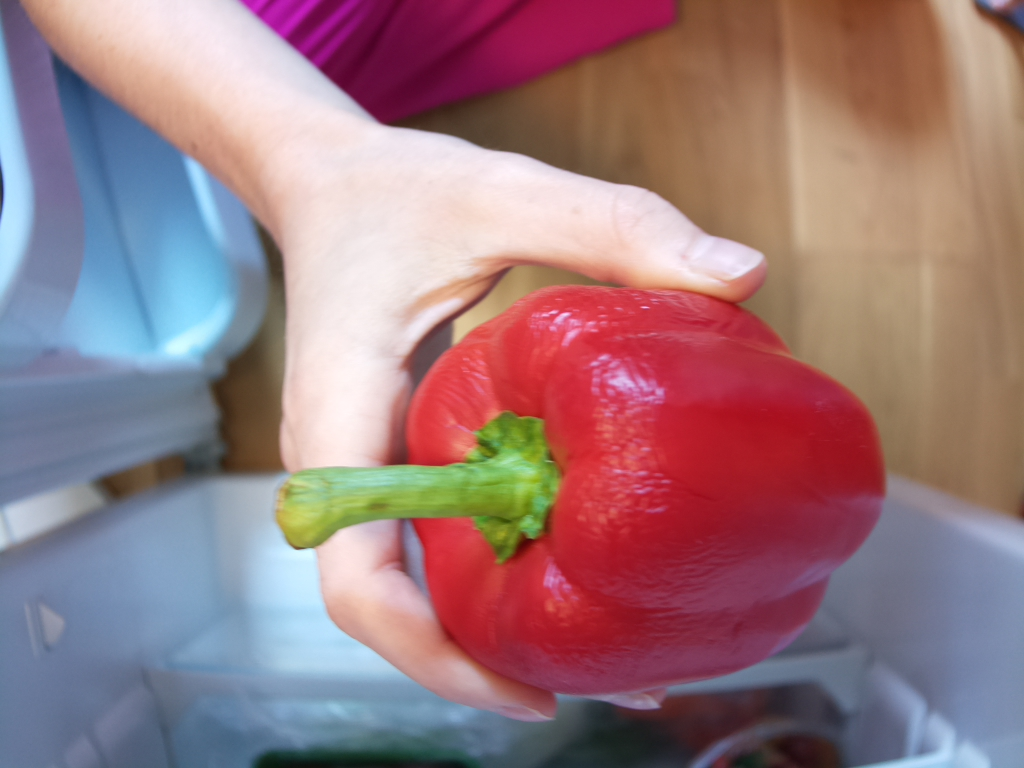pepper-bad: (271, 279, 894, 702)
